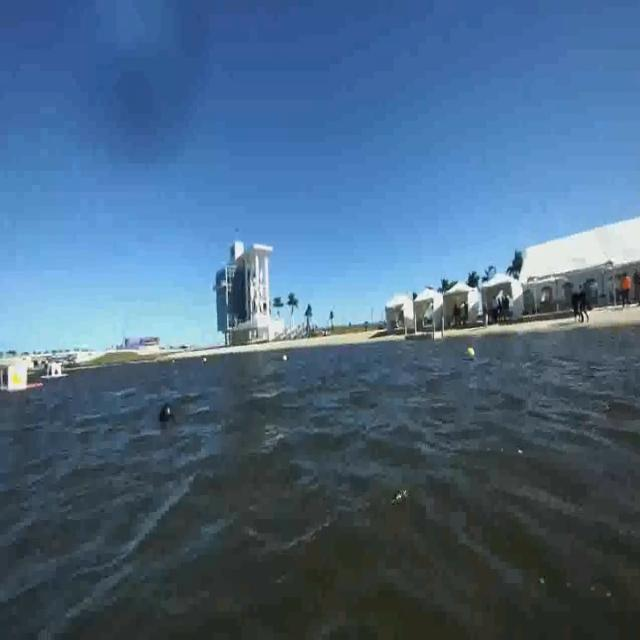black-buoy: (161, 405, 172, 428)
yellow-buoy: (466, 345, 476, 360)
